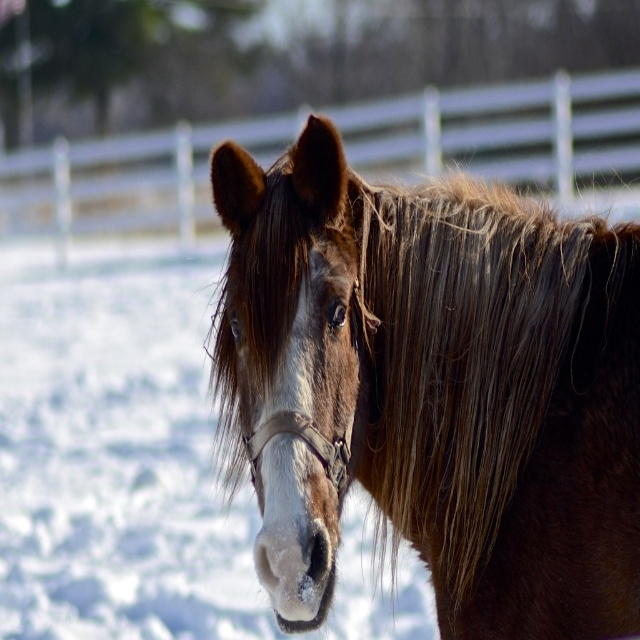Horse: (204, 111, 640, 639)
